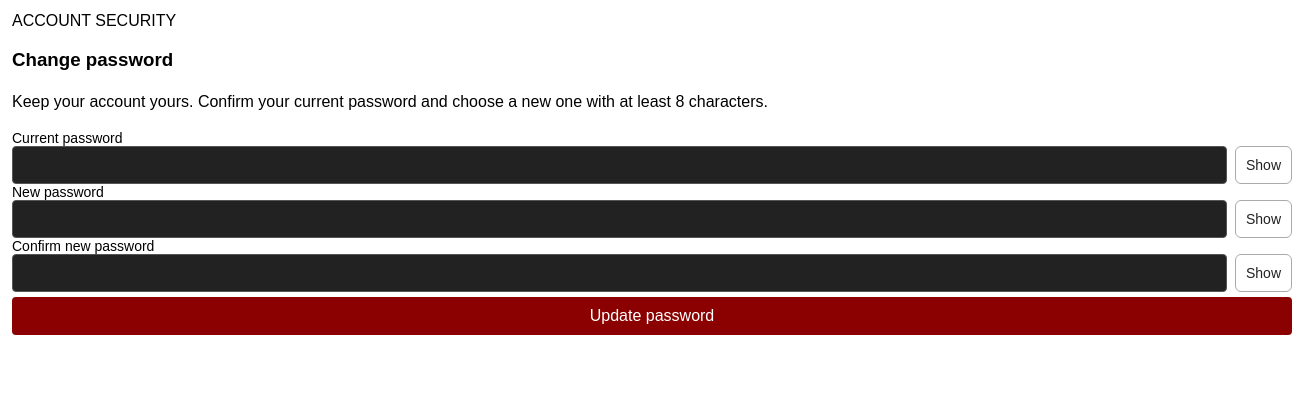
Test: mismatched passwords never reach the server
The width and height of the screenshot is (1304, 414).
In the password field labelled "Current password": (620, 165) [12,146,1227,184], type "old-password"
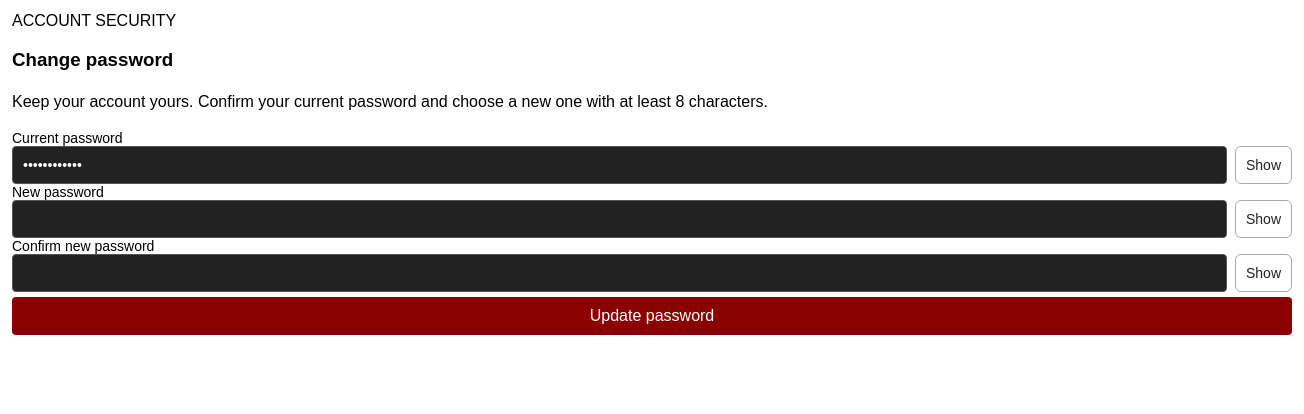
In the password field labelled "New password": (620, 219) [12,200,1227,238], type "new-password"
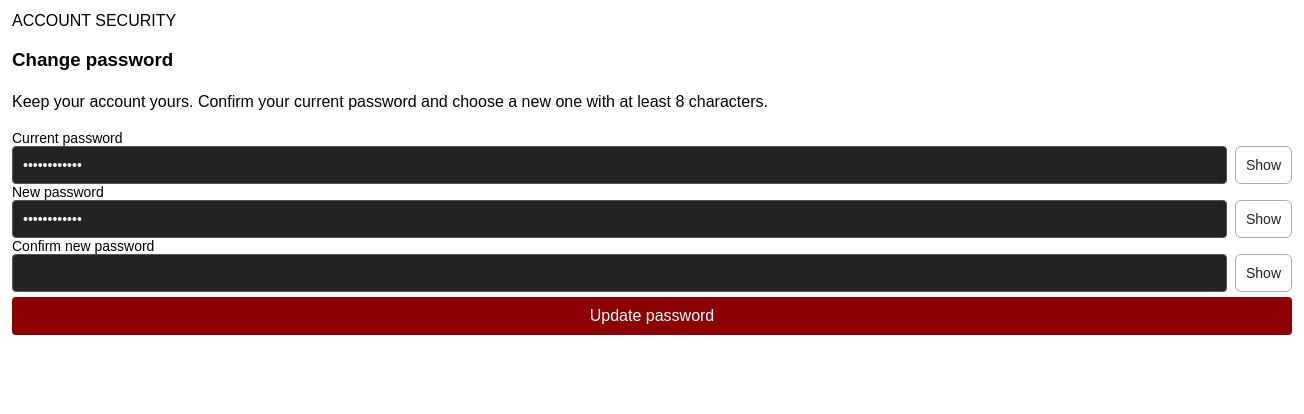
In the password field labelled "Confirm new password": (620, 273) [12,254,1227,292], type "different-password"
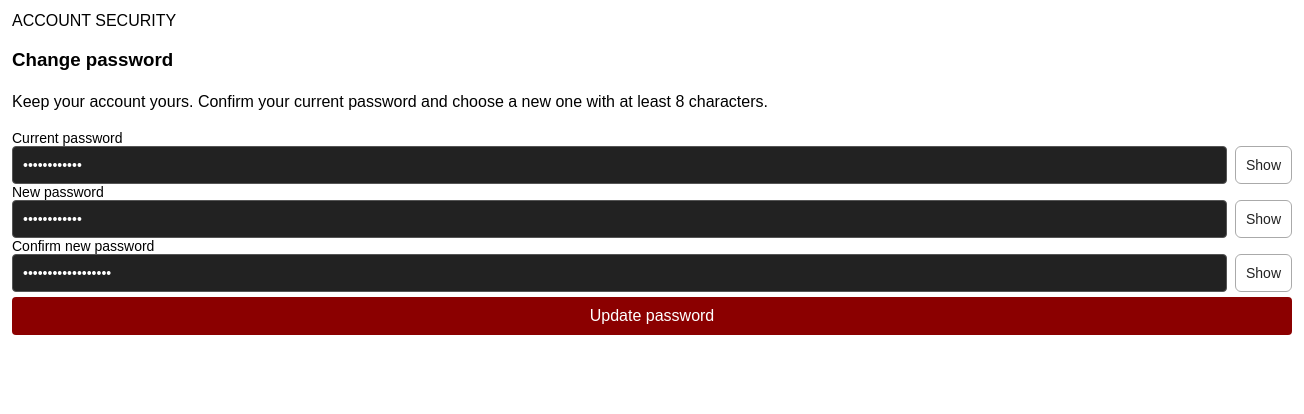
Click the button "Update password": (652, 316) [12,297,1292,335]
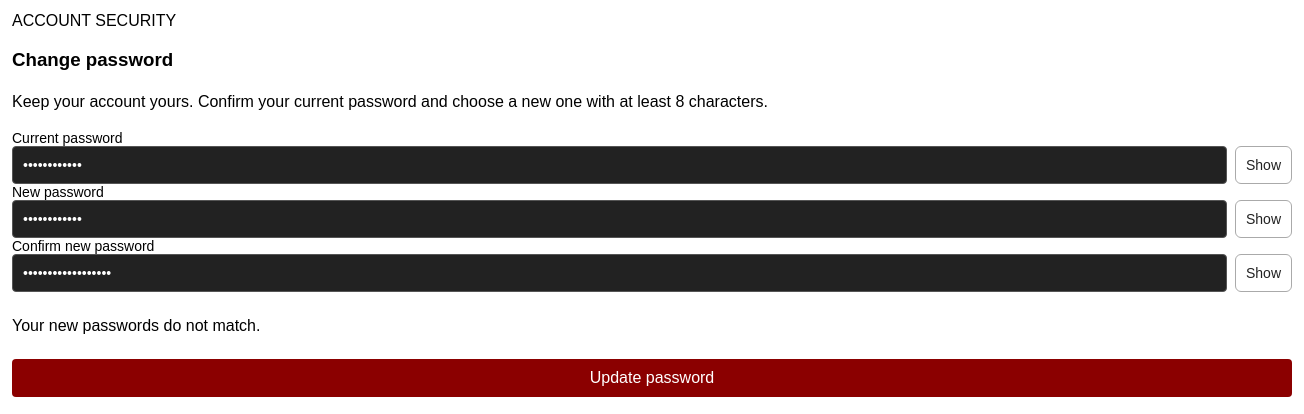
Check: the message shows "do not match", box [12,317,260,334]
